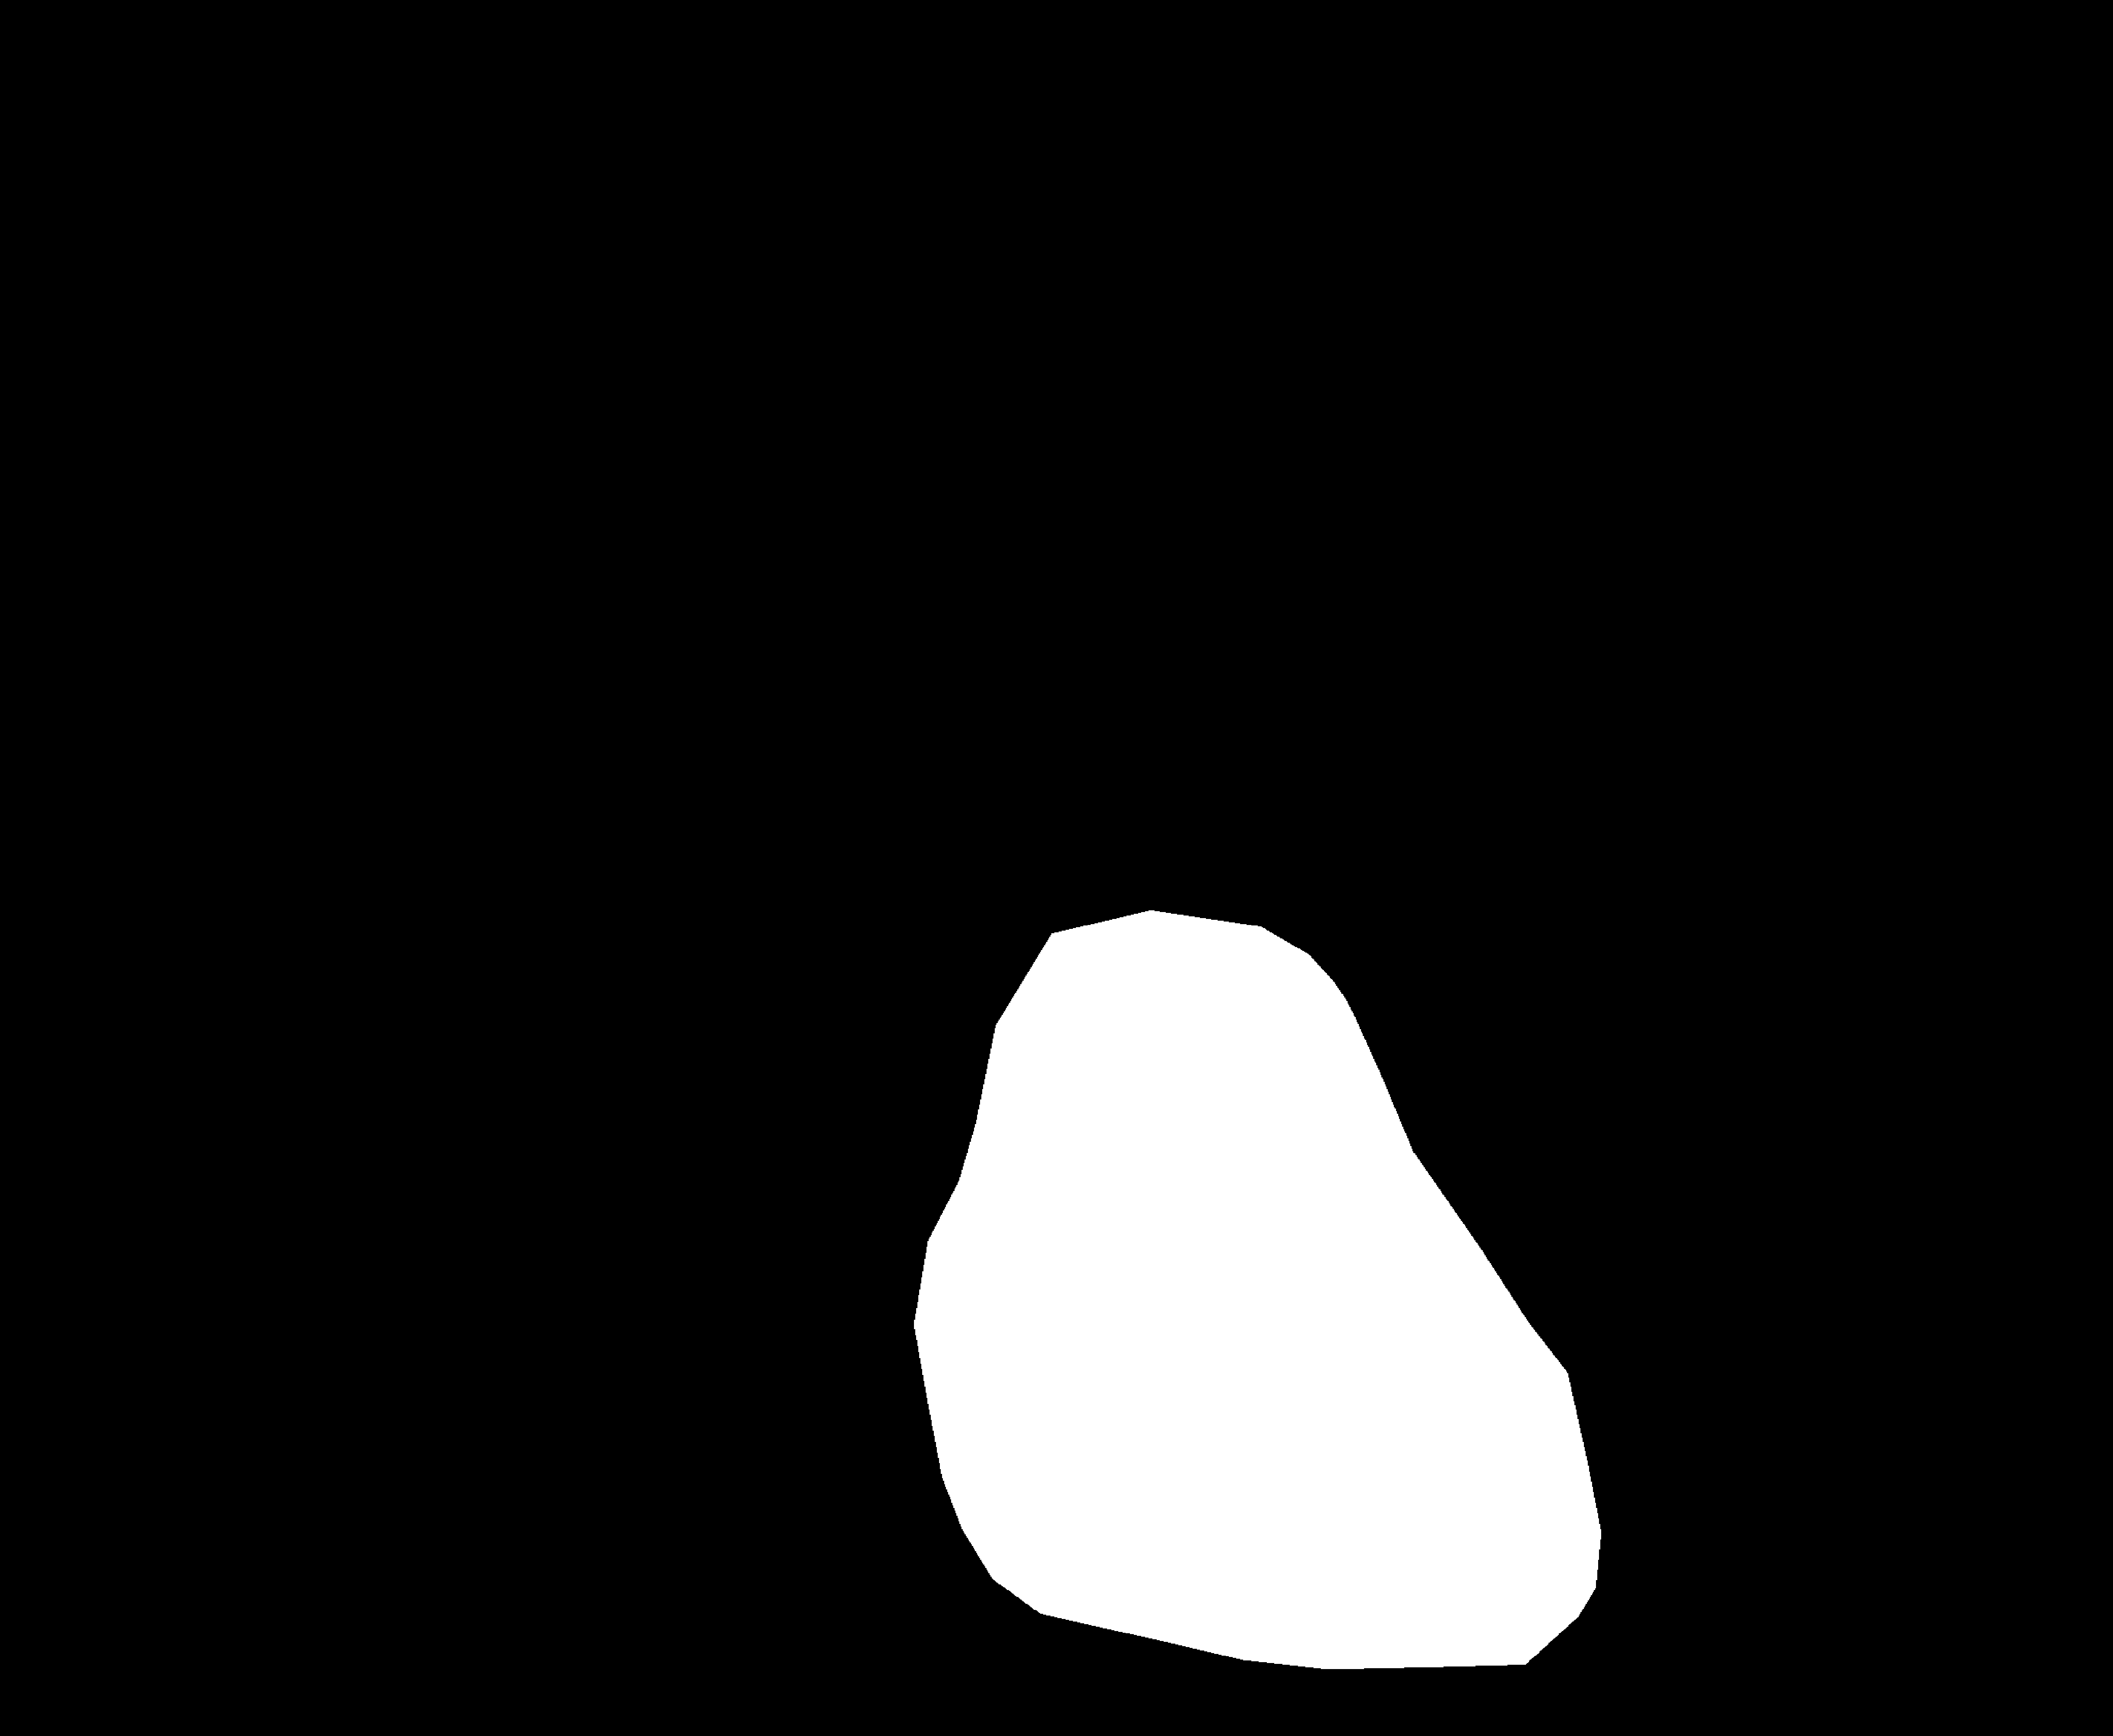heart: (913, 1176, 1595, 1678)
left_lung: (356, 270, 1081, 1732)
right_lung: (1232, 263, 1880, 1732)
